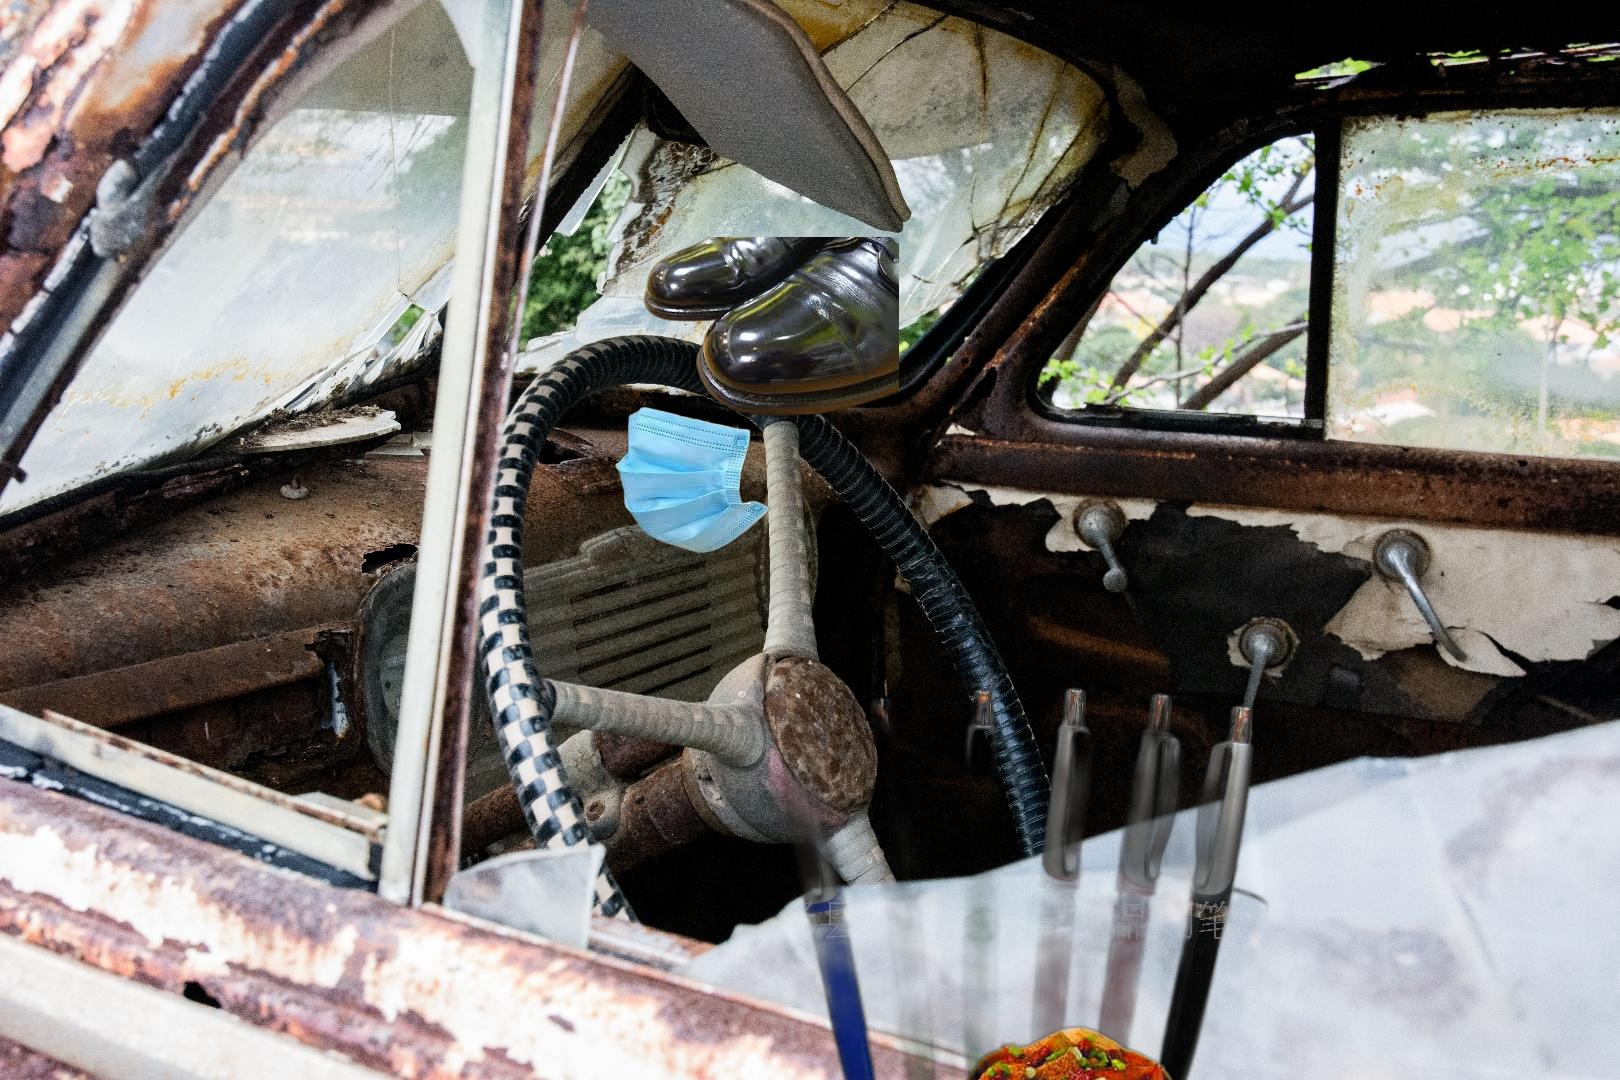biological: (859, 1022, 1193, 1080)
penholder: (698, 676, 1326, 1080)
shoes: (641, 237, 899, 419)
trash: (612, 391, 773, 556)
